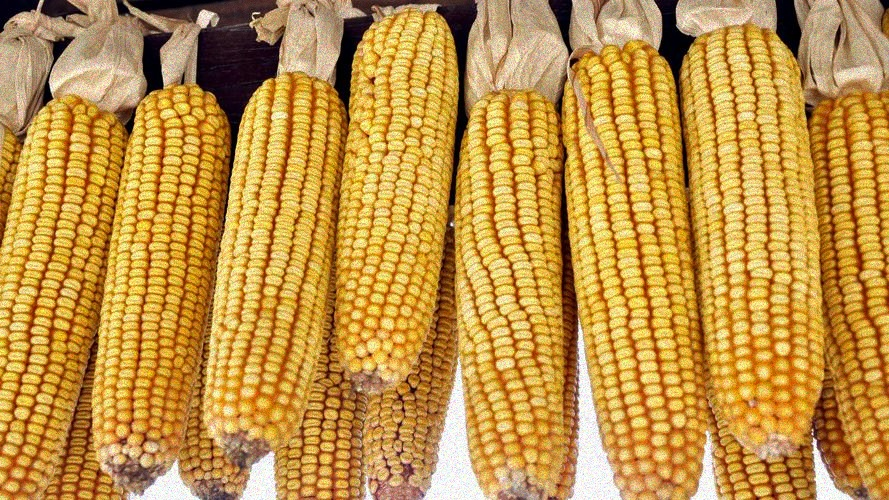corn: (562, 45, 706, 493), (679, 24, 823, 456), (338, 8, 458, 393), (1, 96, 117, 484), (458, 95, 566, 500), (220, 77, 323, 459), (107, 93, 195, 479)
